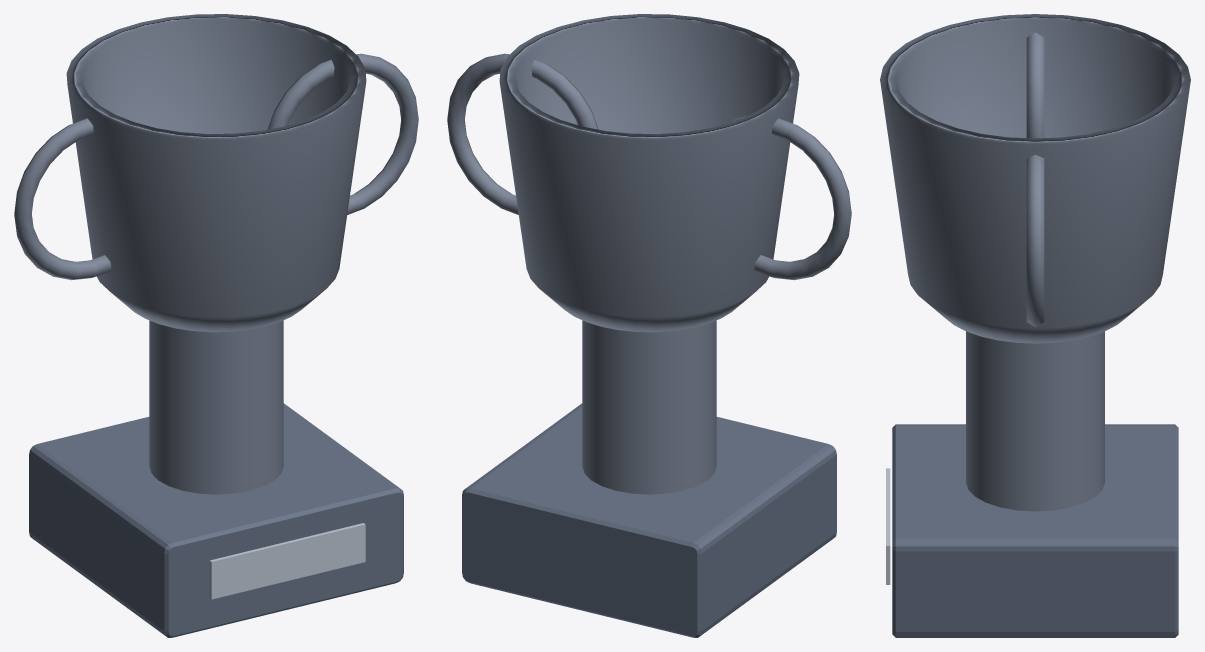
File: trophy-lite.glb
The picture shows the model from 3 angles, left to right: view 1: azimuth 30°, elevation 25°; view 2: azimuth 150°, elevation 25°; view 3: azimuth 270°, elevation 25°; orthographic projection. The views are drawn at different scales.
Visible parts, largest first — view 1: accent, dark, light; view 2: accent, dark; view 3: accent, dark, light.
Part boxes in pixels (bbox=[...]): accent: bbox=[14, 14, 418, 494]; dark: bbox=[29, 403, 403, 637]; light: bbox=[209, 523, 365, 599]; accent: bbox=[447, 14, 851, 494]; dark: bbox=[462, 403, 836, 637]; accent: bbox=[880, 14, 1190, 511]; dark: bbox=[892, 424, 1178, 637]; light: bbox=[886, 468, 890, 584].
Bounding box in the file's own units: 0.236 × 0.27 × 0.152.
